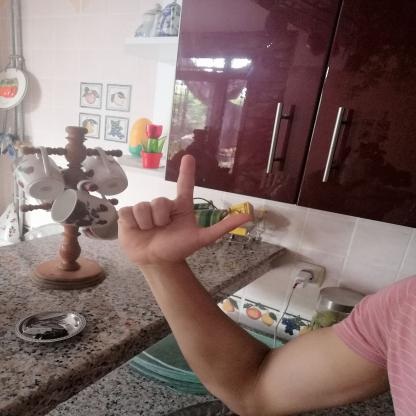LAAM: (107, 149, 261, 277)
